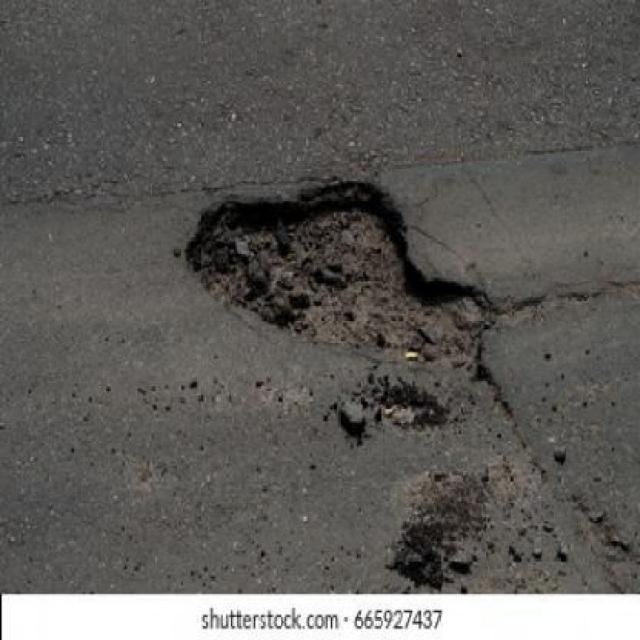Pothole: (183, 180, 489, 374)
